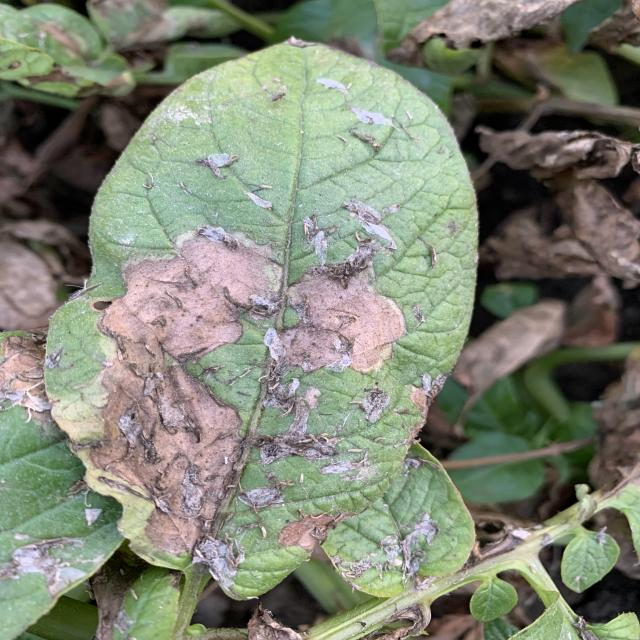lateblight: (90, 228, 282, 556), (257, 238, 405, 465), (278, 510, 353, 551), (193, 536, 245, 592), (237, 471, 295, 512)
